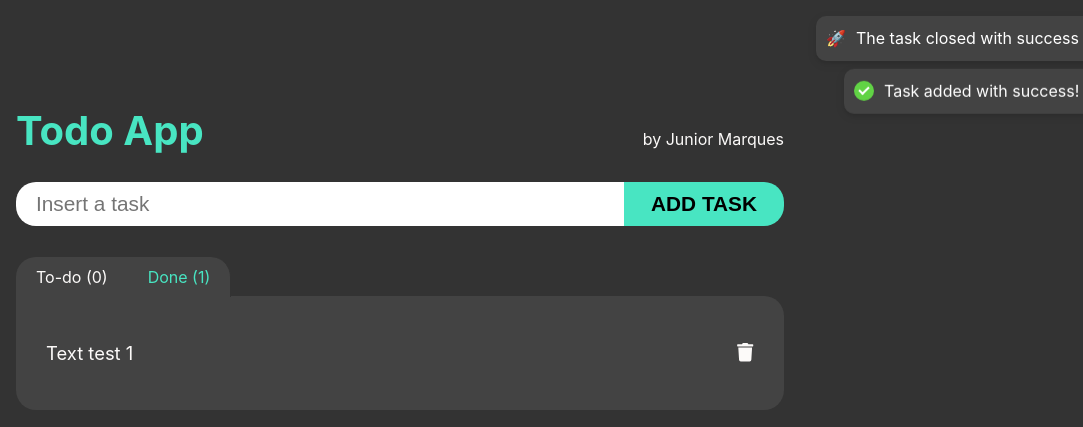
it: Test App › Should remove task correctly
The image size is (1083, 427).
Click the icon with class "icon-remove" at (745, 352), box [736,343,754,361]
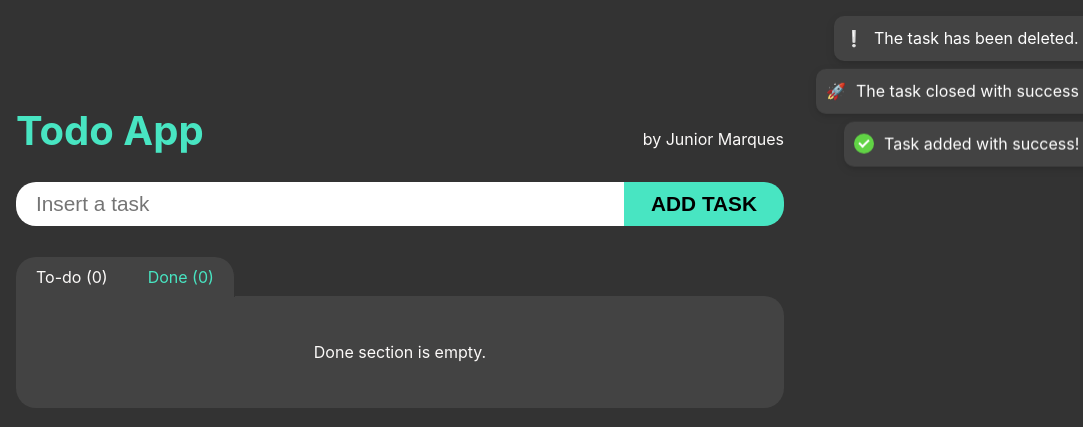
Result: the text "Done section is empty." is shown at [314,342,486,362]
